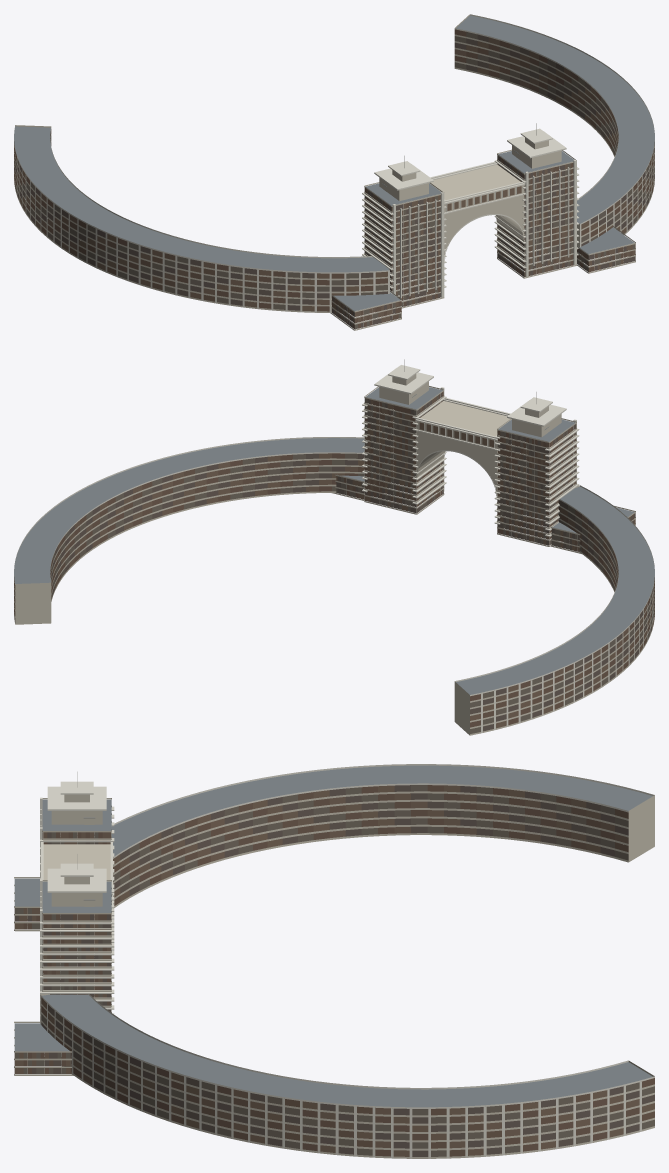
The model's file is arch-r1-draco.glb.
The picture shows the model from 3 angles, top to bottom: view 1: azimuth 30°, elevation 25°; view 2: azimuth 150°, elevation 25°; view 3: azimuth 270°, elevation 25°; orthographic projection. The views are drawn at different scales.
Parts seen in each view (by area): view 1: Arch roof, Arch stone, Arch frame, Arch glass0, Arch glass2, Arch glass1, Arch glass3; view 2: Arch stone, Arch roof, Arch frame, Arch glass2, Arch glass3, Arch glass1, Arch glass0; view 3: Arch roof, Arch stone, Arch frame, Arch glass1, Arch glass3, Arch glass2, Arch glass0.
Part boxes in pixels (x1,y1,x2,y2): Arch roof: [14, 15, 654, 311]; Arch stone: [14, 14, 654, 330]; Arch frame: [14, 14, 654, 326]; Arch glass0: [14, 29, 654, 328]; Arch glass2: [14, 34, 654, 328]; Arch glass1: [14, 37, 654, 322]; Arch glass3: [14, 32, 654, 329]; Arch stone: [14, 374, 654, 735]; Arch roof: [14, 387, 654, 694]; Arch frame: [14, 359, 654, 733]; Arch glass2: [14, 393, 654, 731]; Arch glass3: [14, 395, 654, 733]; Arch glass1: [14, 396, 654, 728]; Arch glass0: [14, 391, 654, 727]; Arch roof: [14, 765, 652, 1107]; Arch stone: [14, 791, 654, 1158]; Arch frame: [15, 764, 654, 1158]; Arch glass1: [15, 785, 654, 1156]; Arch glass3: [15, 785, 654, 1156]; Arch glass2: [15, 785, 654, 1156]; Arch glass0: [14, 785, 654, 1156].
Bounding box in the file's own units: 318 × 76.1 × 251.
